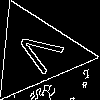V: (11, 27, 74, 81)
